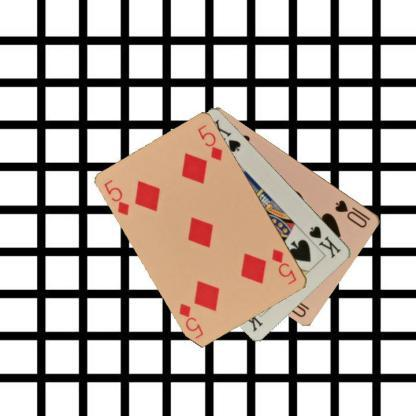10s: (332, 196, 372, 230)
5d: (102, 176, 132, 218), (269, 246, 298, 286)
Ks: (306, 223, 342, 260)
